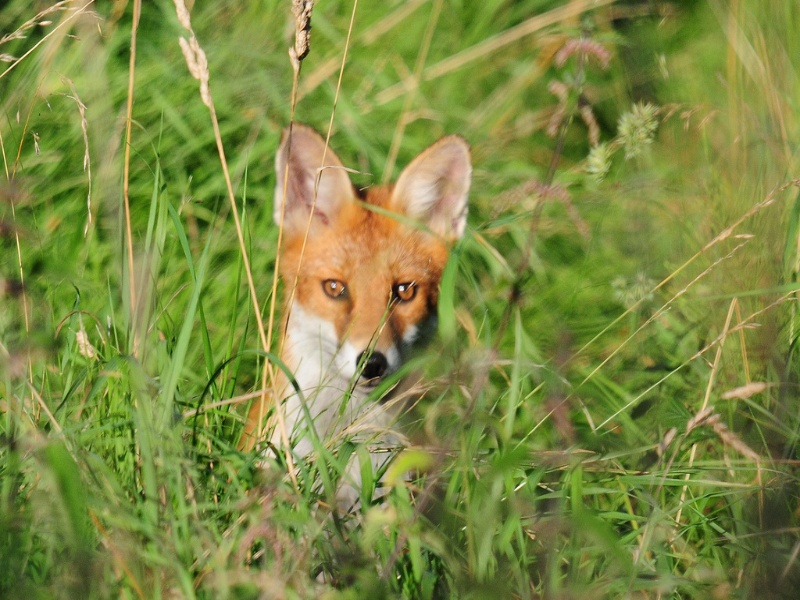fox: (236, 121, 491, 543)
